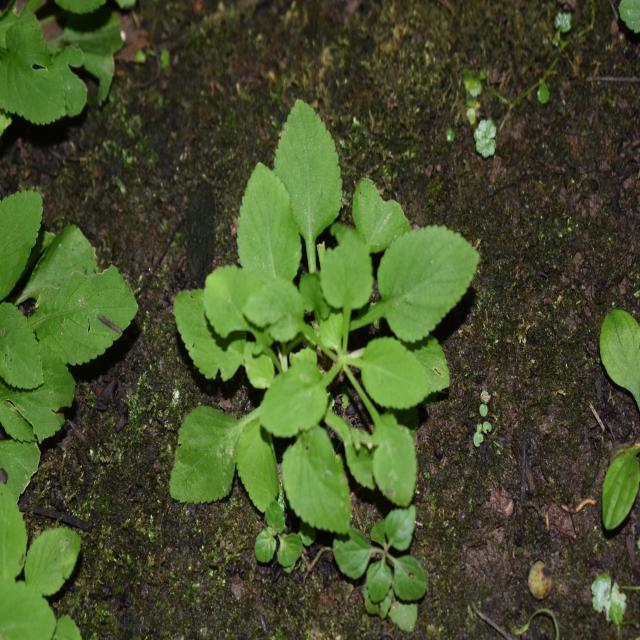Viola: (183, 105, 487, 532)
